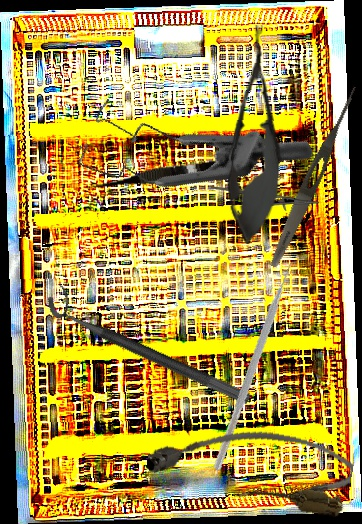Cannula: (143, 411, 357, 520)
Chopper: (175, 253, 349, 473)
Dressing Forceps: (265, 83, 362, 270)
Fixation Ring: (41, 281, 260, 407)
Micro Scissor: (222, 24, 287, 245), (85, 154, 241, 195)
Needle Holder: (210, 186, 320, 212)
Speculum: (58, 24, 316, 258)
